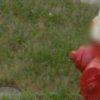Hydrant: (62, 9, 100, 100)
